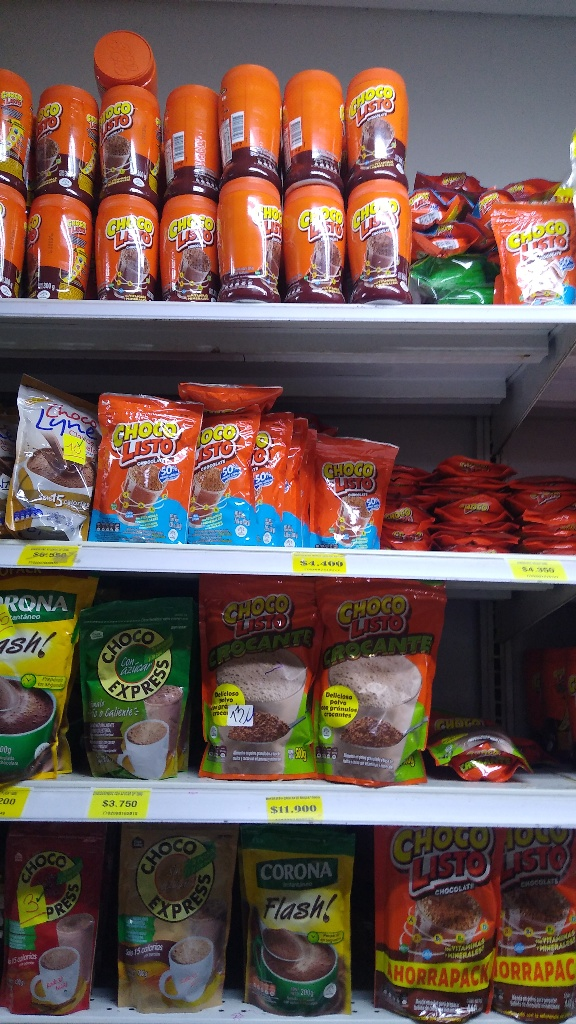COL0170102DYP50000: (193, 574, 322, 783)
COL0170103DYP44000: (378, 825, 491, 1021)
COL0170103TRR30000: (0, 67, 40, 194)
COL0170104DYP20000: (100, 396, 209, 546)
